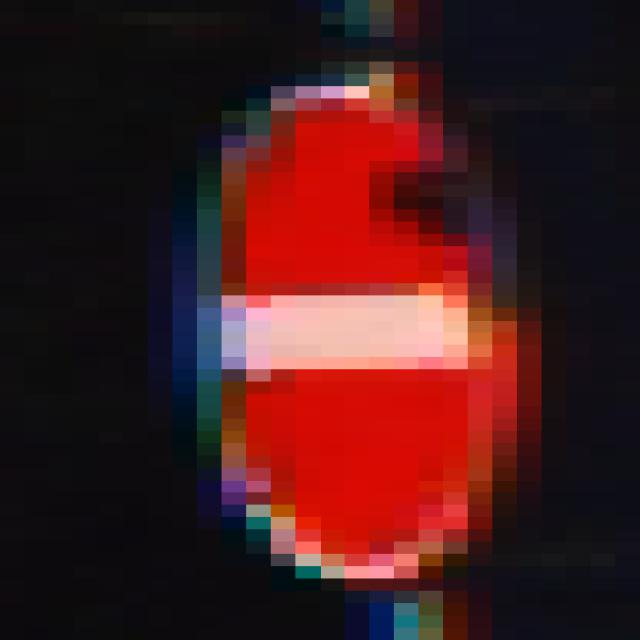No Entry: (124, 75, 518, 579)
